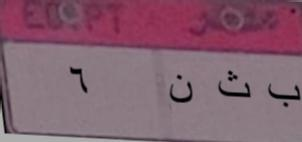6: (64, 61, 96, 100)
baa: (263, 76, 302, 112)
noon: (167, 71, 198, 110)
thaa: (214, 63, 253, 108)
